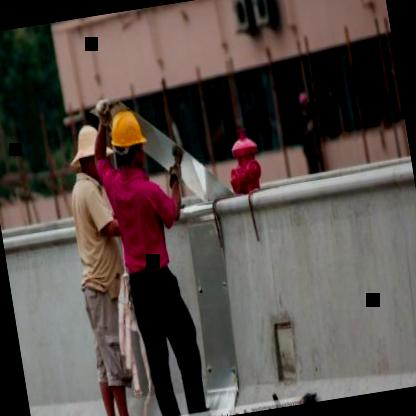helmet: (99, 100, 155, 179)
